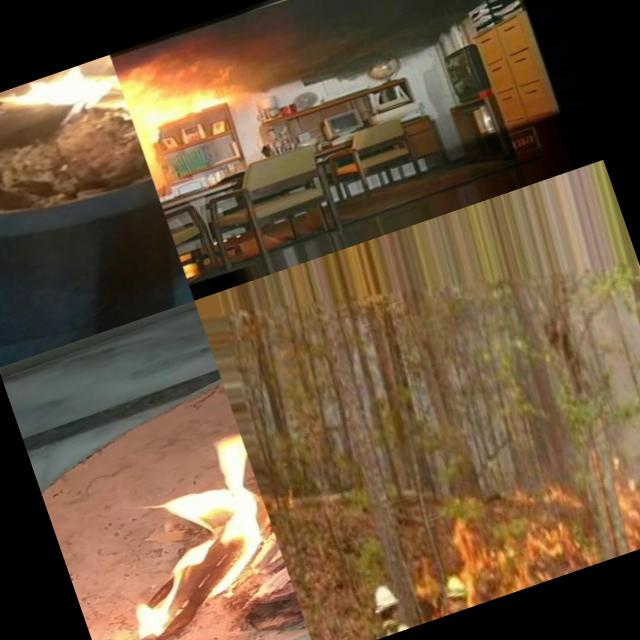fire: (81, 427, 293, 640), (443, 474, 599, 606), (114, 31, 255, 170), (0, 54, 135, 167), (606, 444, 640, 551), (178, 246, 206, 280)
